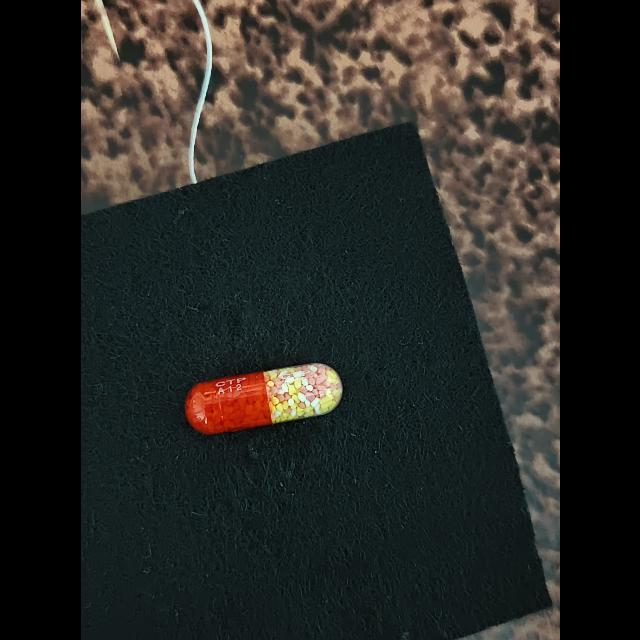Intact Capsule: (184, 363, 342, 434)
